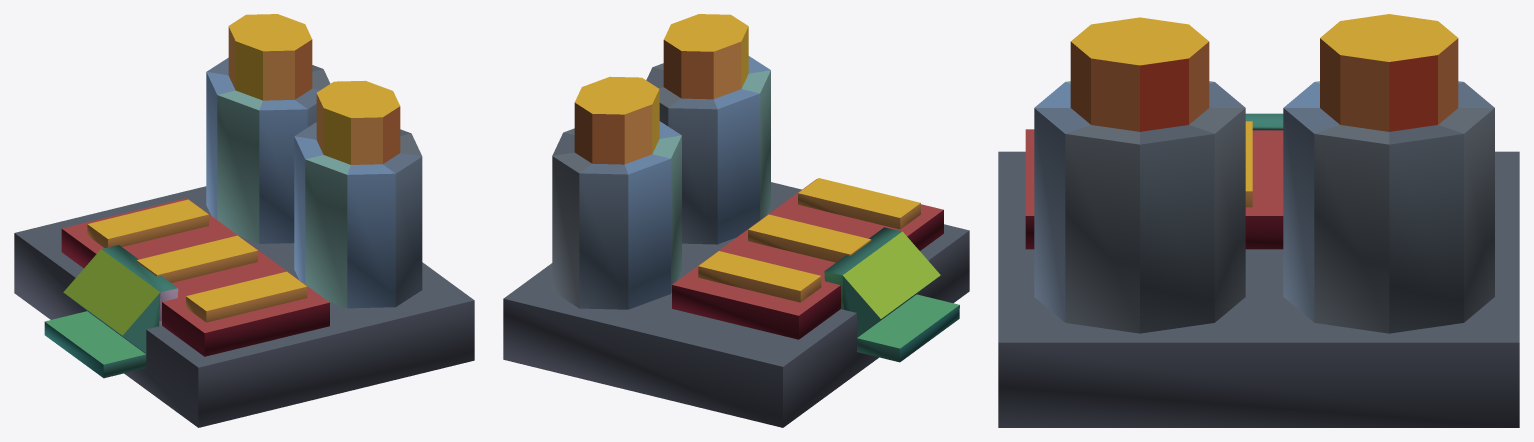
File: constructor_UV.fbx
The picture shows the model from 3 angles, left to right: view 1: azimuth 30°, elevation 25°; view 2: azimuth 150°, elevation 25°; view 3: azimuth 270°, elevation 25°; orthographic projection. The views are drawn at different scales.
Parts seen in each view (by area): view 1: constructor; view 2: constructor; view 3: constructor.
Boxes of the visible parts, bbox=[...] form: constructor: bbox=[14, 14, 474, 427]; constructor: bbox=[503, 14, 969, 427]; constructor: bbox=[998, 14, 1519, 427].
Size of the model in its own units: 186 by 136 by 186.
